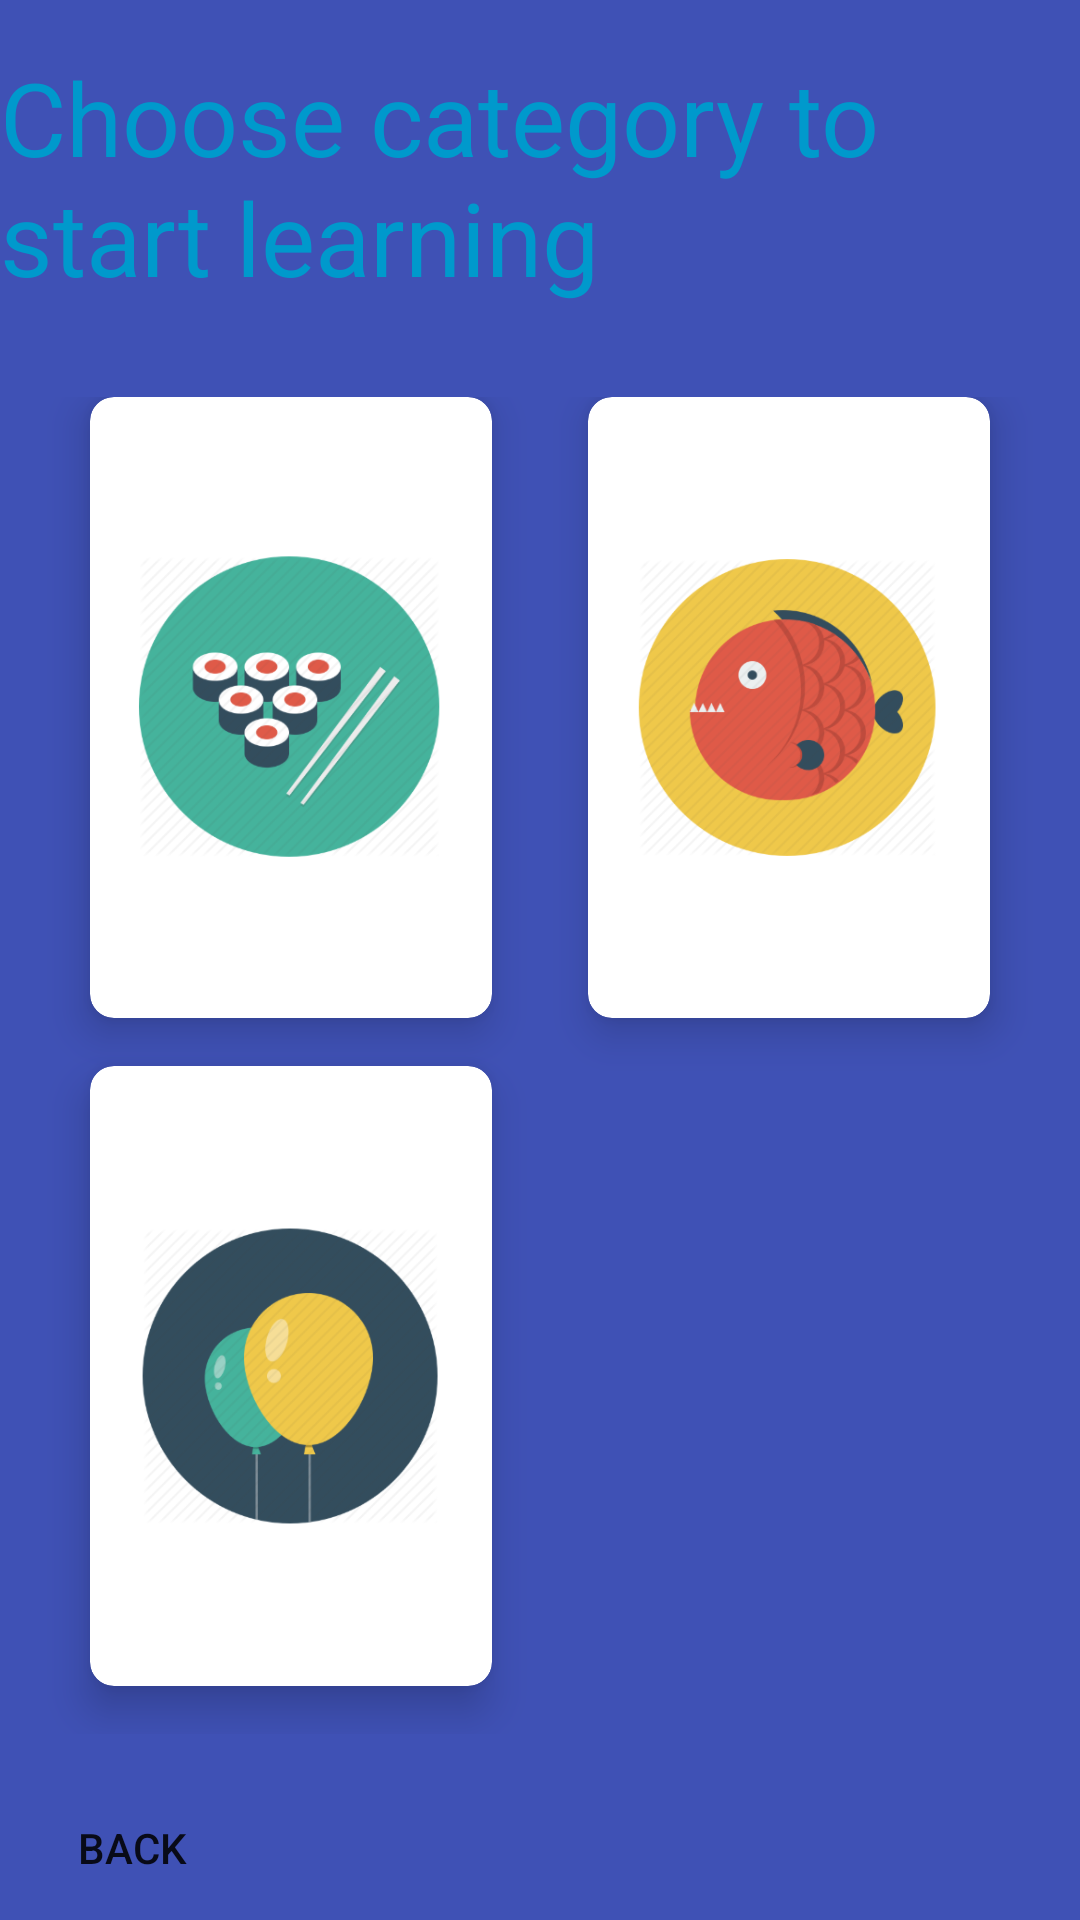

Screen size 1080 × 1920. Icon name, then its center in pixels as [x,y]:
animal: [787,707]
colors: [290,1376]
food: [289,706]
